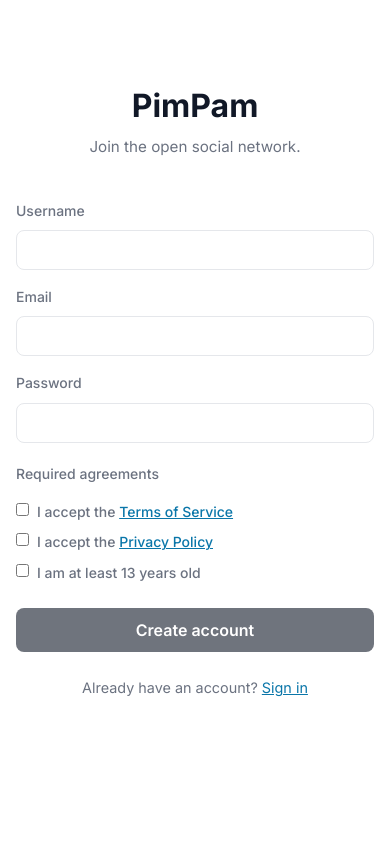
Test: Register › shows error when registration fails with a string detail
Type "newuser" into the field labelled "Username" at (195, 250), box left=16, top=230, right=374, bottom=270
Type "new@example.com" into the field labelled "Email" at (195, 336), box left=16, top=316, right=374, bottom=356
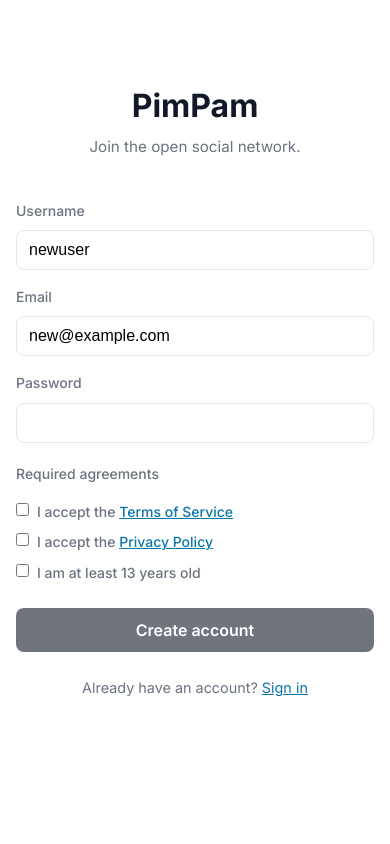
Type "securepass" into the password field labelled "Password" at (195, 423), box left=16, top=403, right=374, bottom=443
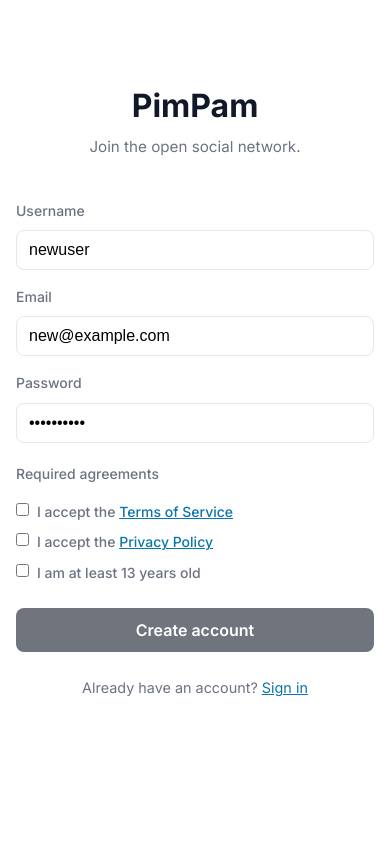
Click the checkbox labelled "I accept the Terms of Service" at (22, 510), box left=16, top=503, right=29, bottom=516
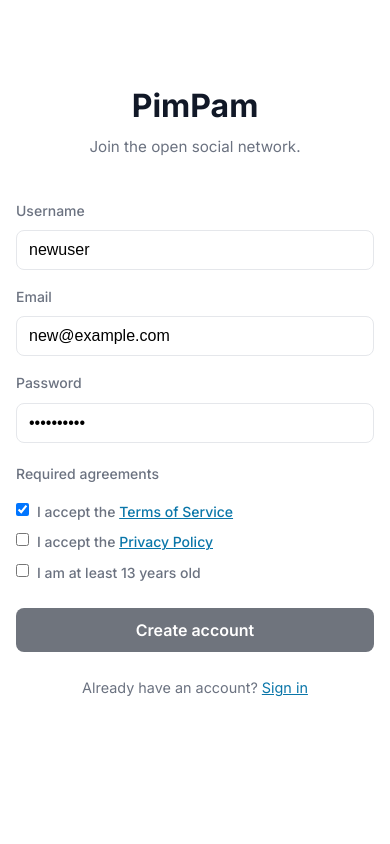
Click the checkbox labelled "I accept the Privacy Policy" at (22, 540), box left=16, top=534, right=29, bottom=546
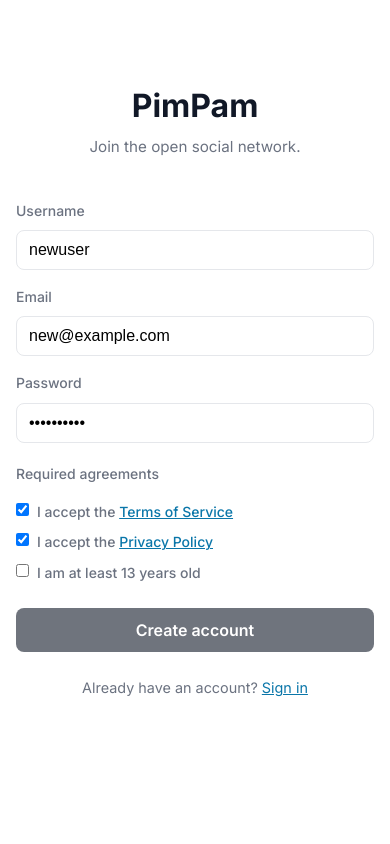
Click the checkbox labelled "I am at least 13 years old" at (22, 570), box left=16, top=564, right=29, bottom=577
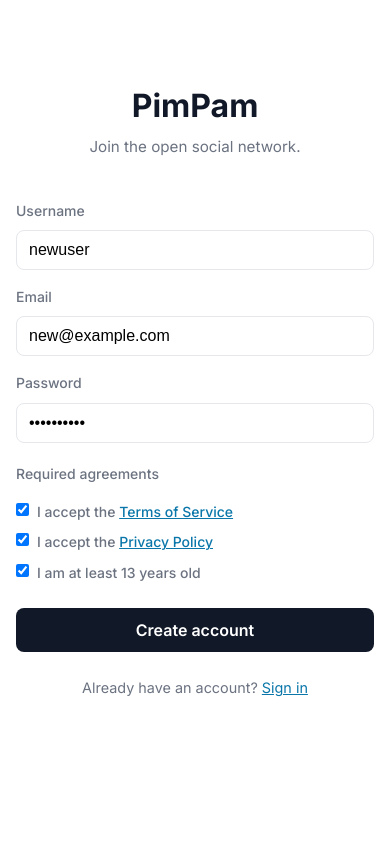
Click the button "Create account" at (195, 630), box left=16, top=608, right=374, bottom=652
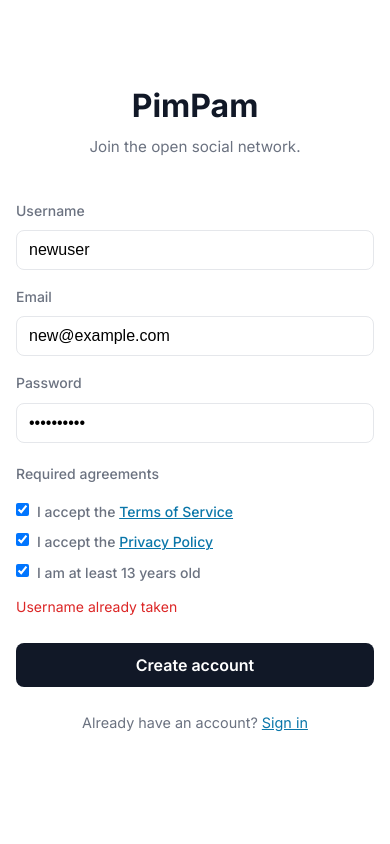
expect the message reads "Username already taken": met, box left=16, top=598, right=177, bottom=615
